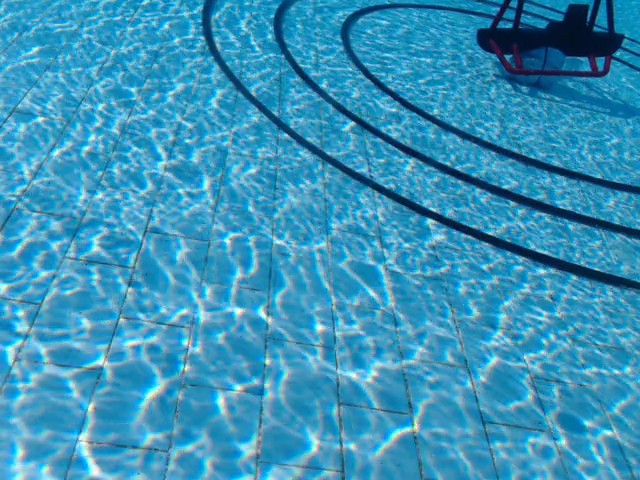submarine: (476, 1, 626, 77)
